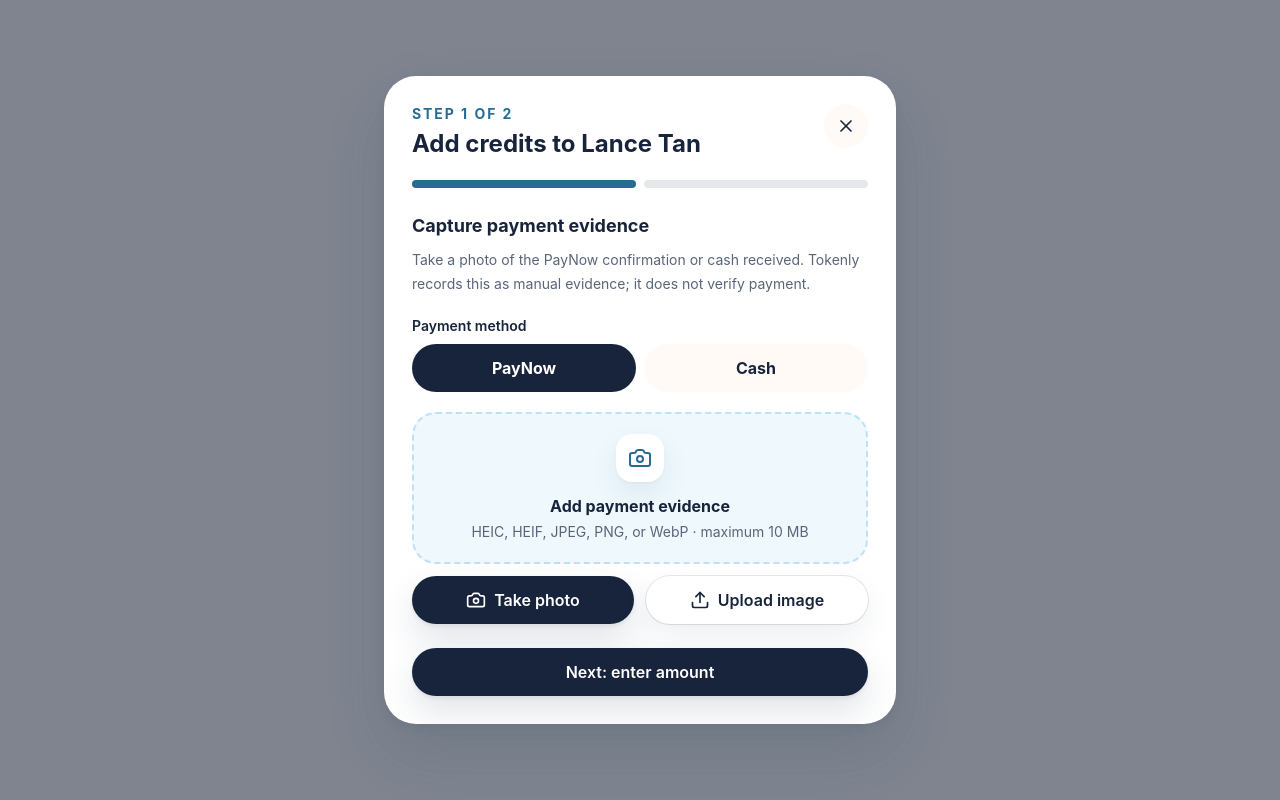
Test: AdminAddCreditsDialog › requires evidence before moving to the amount step
Click the button "Next: enter amount" at (640, 672), box [412,648,868,696]
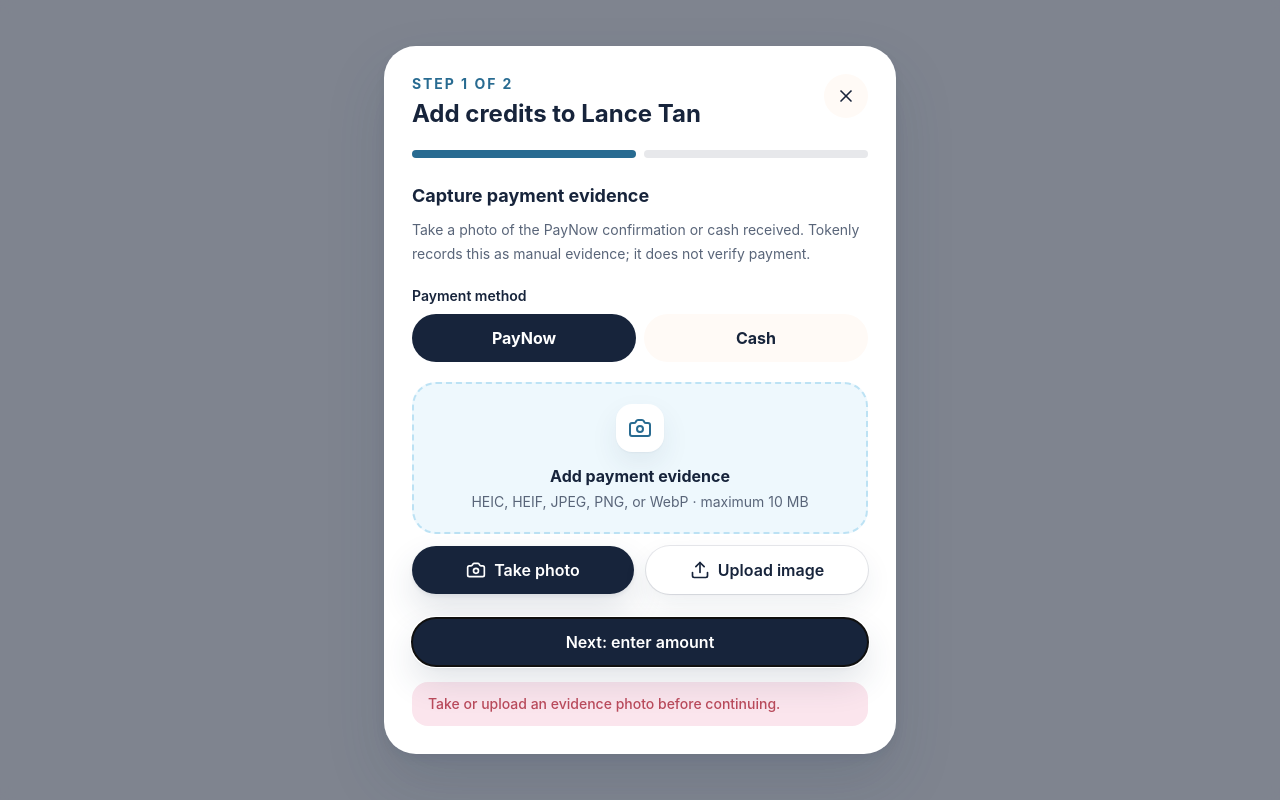
Expected: the heading "Capture payment evidence" is shown, [412,185,649,206]
Expected: the message shows "Take or upload an evidence photo", [428,695,780,712]
